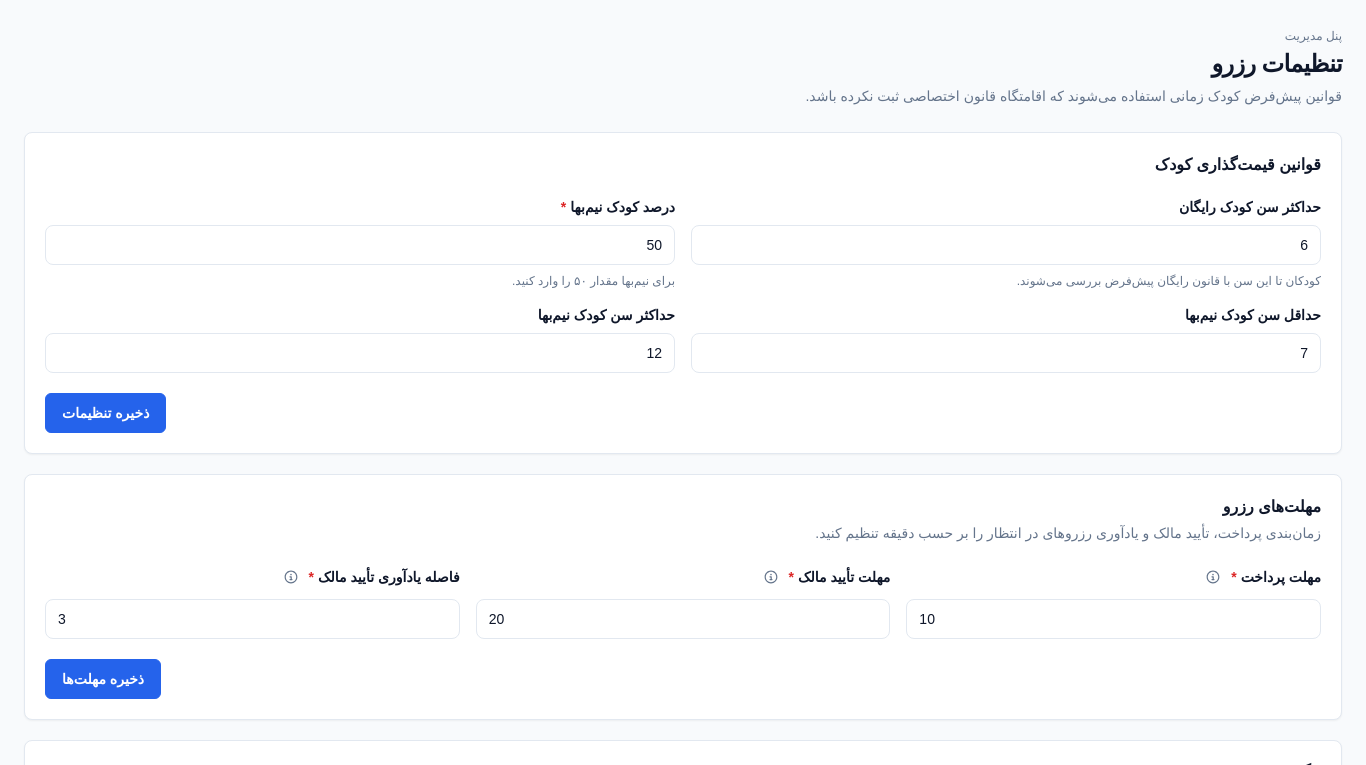
Test: Admin Reservation Settings › rejects invalid deadline value  near the field
The width and height of the screenshot is (1366, 765).
Check: the heading "مهلت‌های رزرو" is shown, box x1=1223 y1=498 x2=1321 y2=515
Clear the number field labelled "مهلت پرداخت*" at {"x": 1114, "y": 619}, box x1=906 y1=599 x2=1321 y2=639
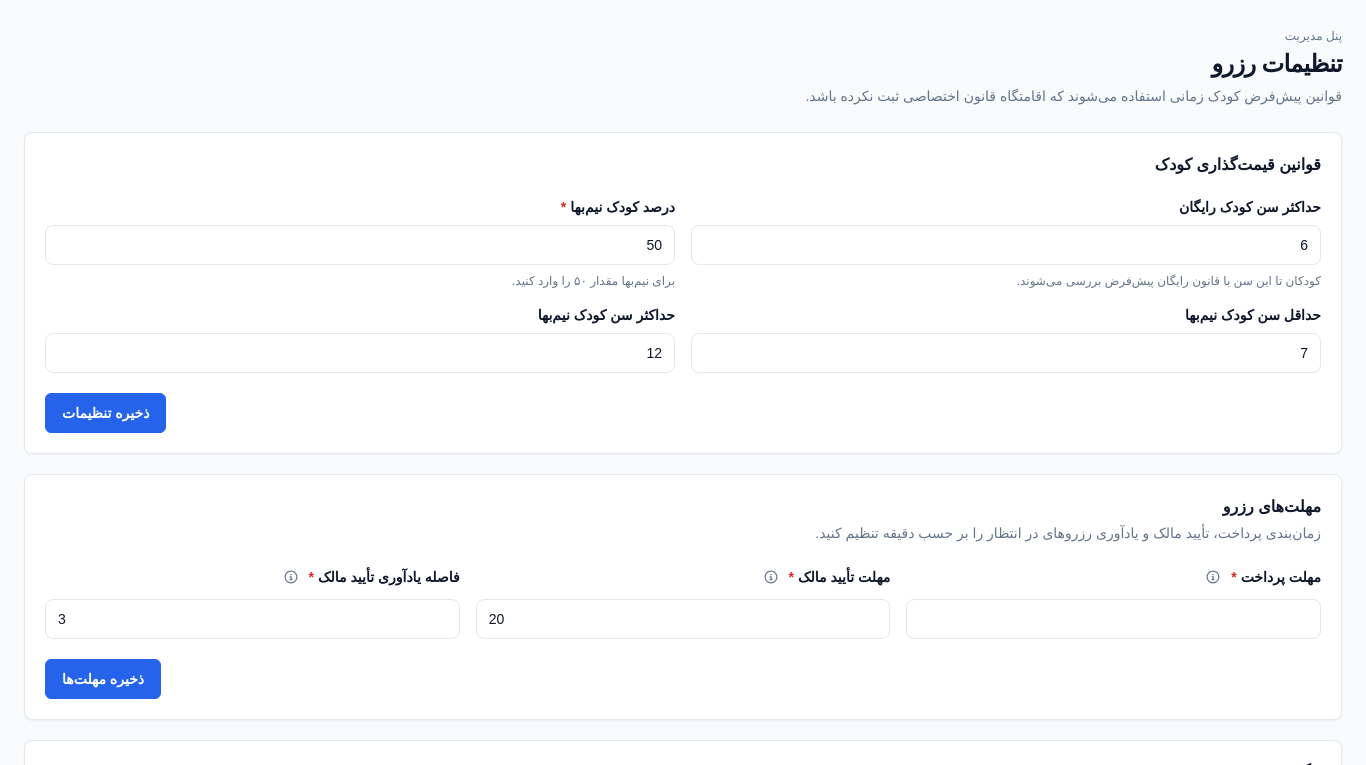
Submit the form named "ذخیره مهلت‌ها", box x1=45 y1=495 x2=1321 y2=699
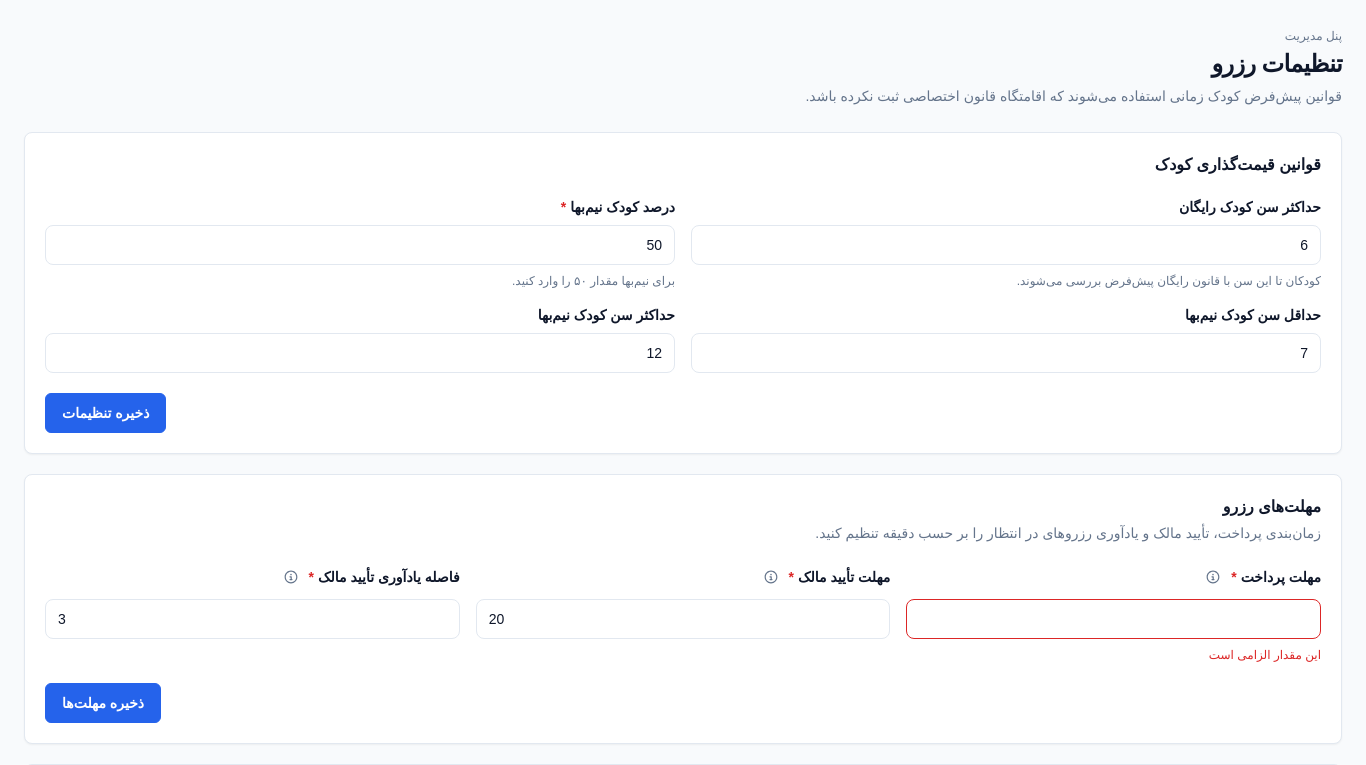
Check: the text "این مقدار الزامی است" is shown, box x1=1209 y1=648 x2=1321 y2=662
